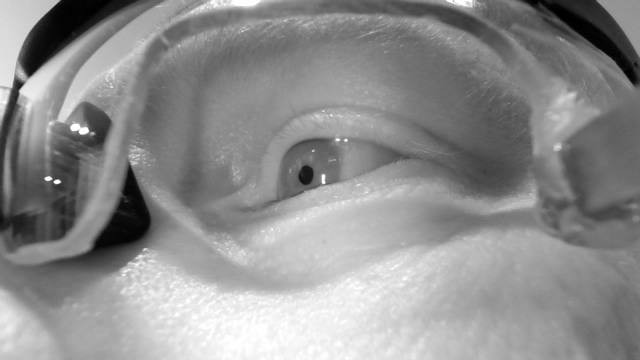pupil: (297, 164, 314, 186)
